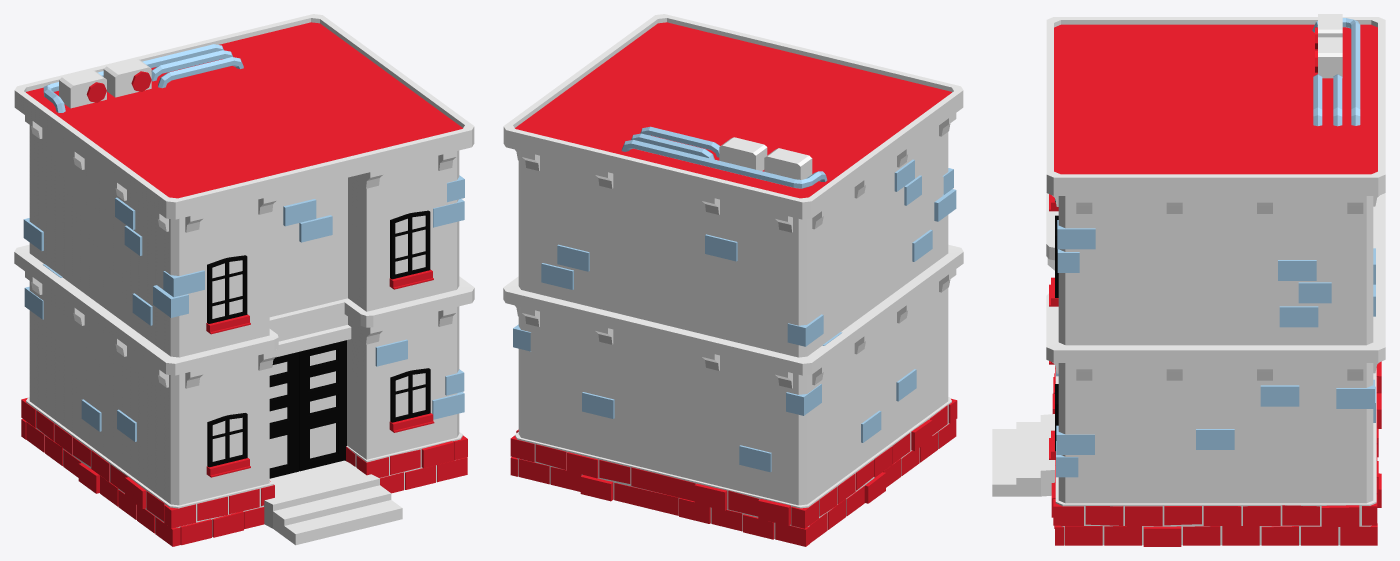
The model's file is building_quaternius_2Story_Center.glb.
3 views of the same model, side by side, from view 1: azimuth 30°, elevation 25°; view 2: azimuth 150°, elevation 25°; view 3: azimuth 270°, elevation 25° (orthographic). The views are drawn at different scales.
Bounding box in the file's own units: 2.42 × 2.74 × 2.5.
Materials: 1 (1 with a texture image).
